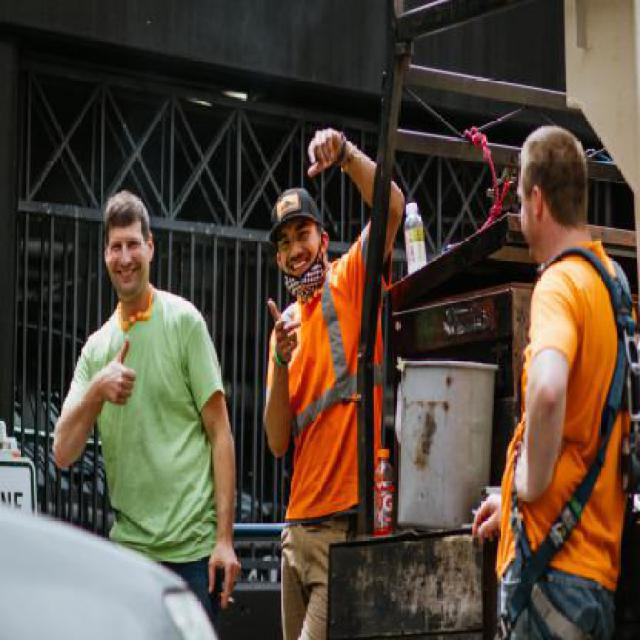head: (509, 121, 596, 226), (95, 186, 156, 266)
person: (40, 183, 246, 583), (470, 107, 623, 592), (244, 126, 396, 597)
